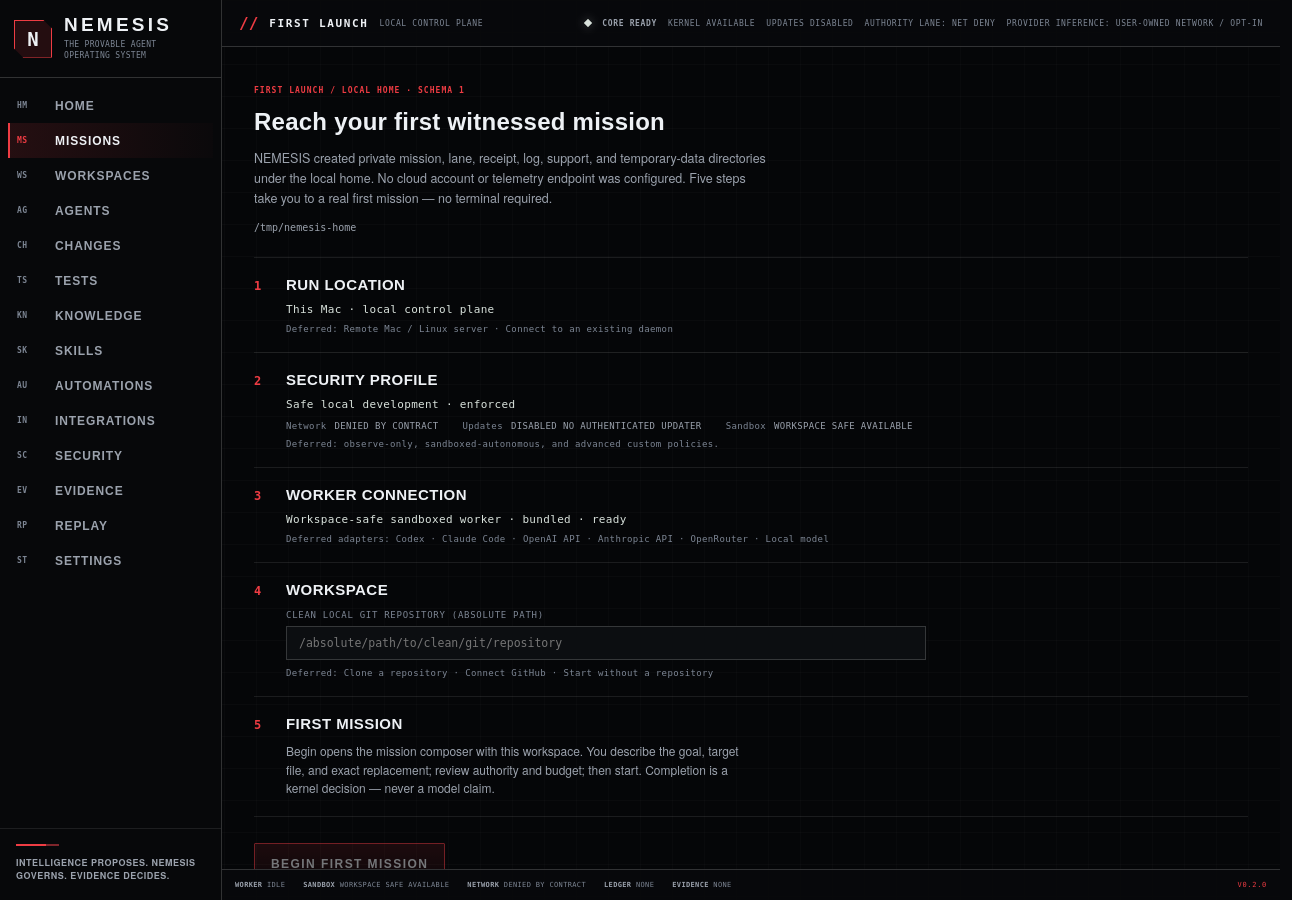
Test case: NEMESIS Desktop production surface › guides first launch to a real mission composer without a terminal
The width and height of the screenshot is (1292, 900).
Expected: the heading "Reach your first witnessed mission" is shown, [254,108,665,135]
Expected: the text "/tmp/nemesis-home" is shown, [254,222,356,233]
Type "/tmp/repository" into the field named "Workspace path" at (606, 643), box [286,626,926,660]
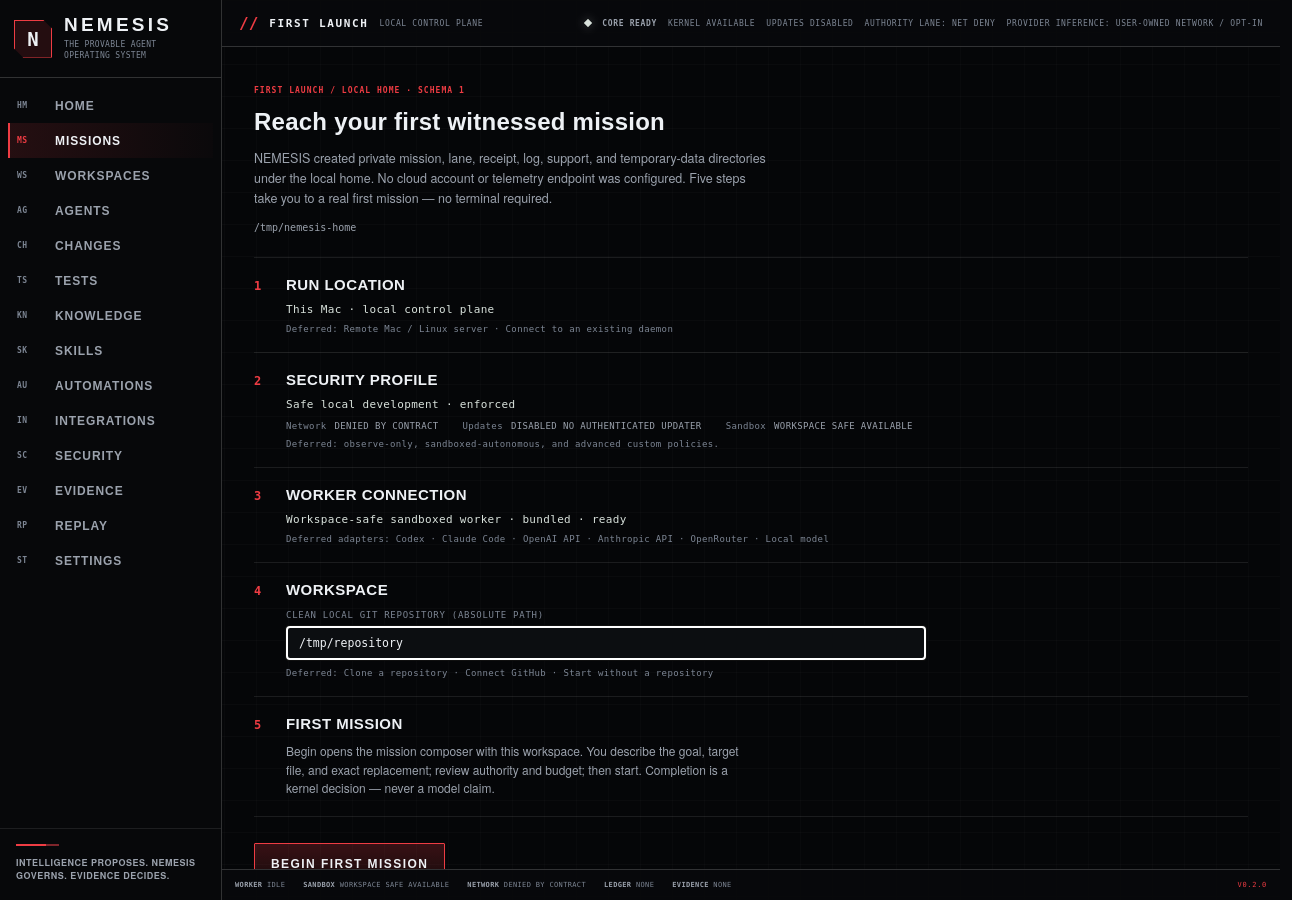
Now the button "Begin first mission" is enabled, box [254,843,445,869]
Click the button "Begin first mission" at (350, 864), box [254,843,445,885]
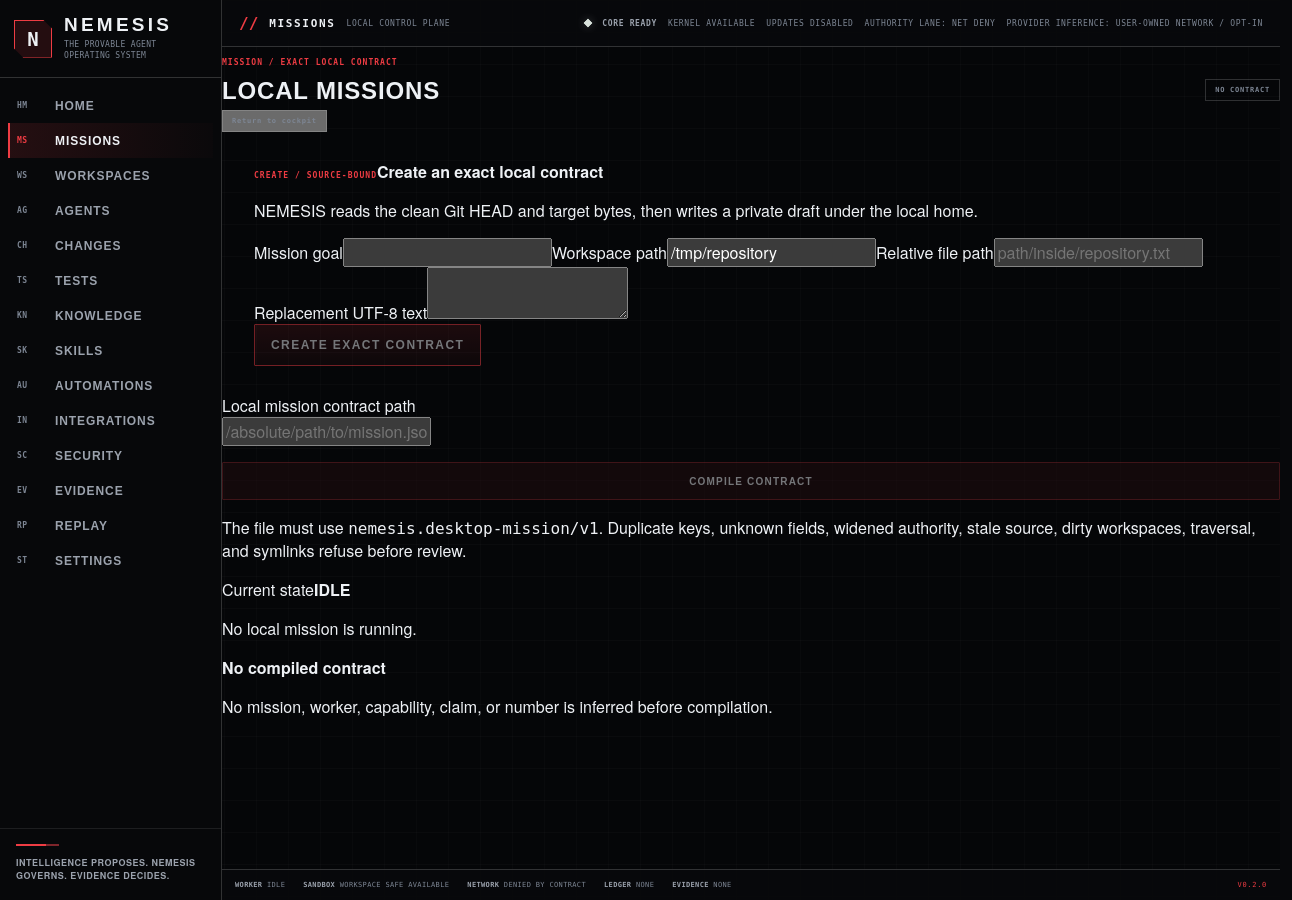
Now the field labelled "Workspace path" holds "/tmp/repository", box [667,238,876,267]
Now the heading "Local missions" is shown, box [222,77,440,105]
